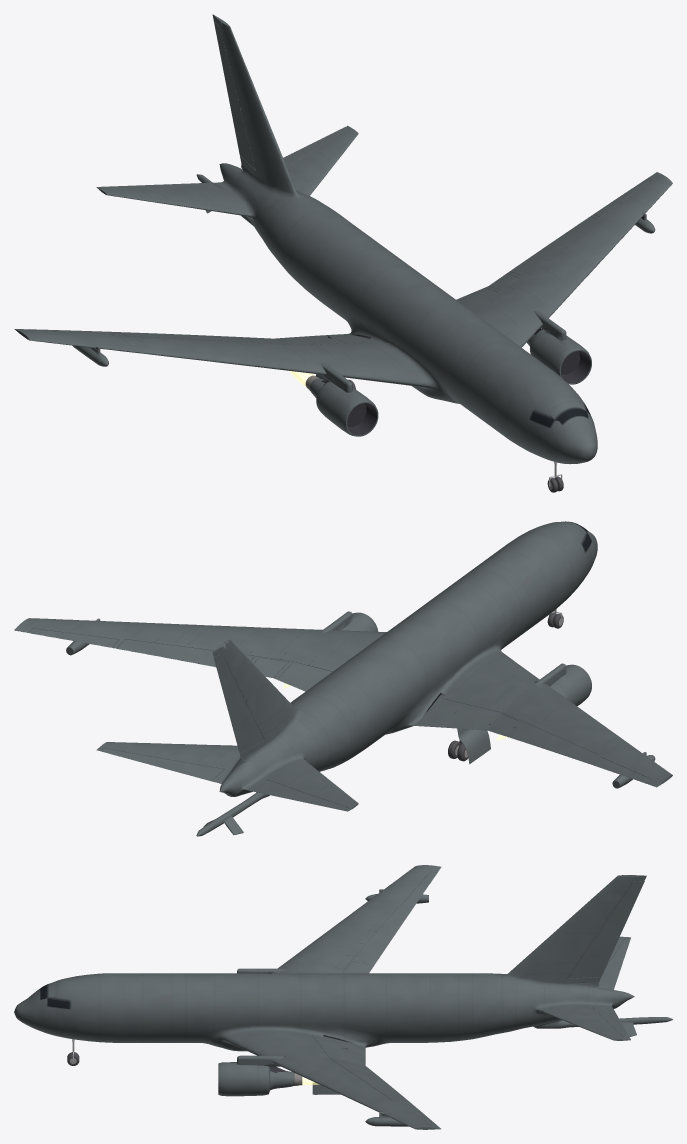
3 views of the same model, one above another, from view 1: azimuth 30°, elevation 25°; view 2: azimuth 150°, elevation 25°; view 3: azimuth 270°, elevation 25° (orthographic). The views are drawn at different scales.
Visible parts, largest first — view 1: fsim:section:centre, fsim:section:nose, fsim:section:tail, fsim:section:right-wing, fsim:section:left-wing, fsim:rudder, fsim:flaps; view 2: fsim:section:centre, fsim:section:tail, fsim:section:nose, fsim:section:right-wing, fsim:section:left-wing, fsim:flaps (×4), fsim:elevator (×2), fsim:rudder, fsim:aileron (×2), Right Main Gear door; view 3: fsim:section:centre, fsim:section:tail, fsim:section:nose, fsim:section:left-wing, fsim:section:right-wing, fsim:rudder, fsim:flaps (×3), fsim:elevator (×2), fsim:aileron.
Boxes of the visible parts, x1,y1,x2,y2 form: fsim:section:centre: (72,198,655,436); fsim:section:nose: (444,328,597,463); fsim:section:tail: (96,14,358,262); fsim:section:right-wing: (14,329,432,393); fsim:section:left-wing: (473,172,672,347); fsim:rudder: (214,22,255,170); fsim:flaps: (510,216,597,275); fsim:section:centre: (66,570,655,788); fsim:section:tail: (96,639,358,836); fsim:section:nose: (460,521,597,648); fsim:section:right-wing: (415,649,672,787); fsim:section:left-wing: (14,618,386,679); fsim:flaps (×4): (117,639,597,763); fsim:elevator (×2): (99,748,348,810); fsim:rudder: (214,653,263,752); fsim:aileron (×2): (28,628,651,783); Right Main Gear door: (454,709,490,764); fsim:section:centre: (173,889,505,1126); fsim:section:tail: (487,875,672,1040); fsim:section:nose: (14,973,204,1042); fsim:section:left-wing: (221,1028,440,1129); fsim:section:right-wing: (261,865,441,973); fsim:rudder: (567,881,644,978); fsim:flaps (×3): (323,908,411,1103); fsim:elevator (×2): (592,938,630,1039); fsim:aileron: (401,871,437,908).
Bounding box in the file's own units: 47.58 × 15.98 × 50.5.
11 materials, 1 textured.
